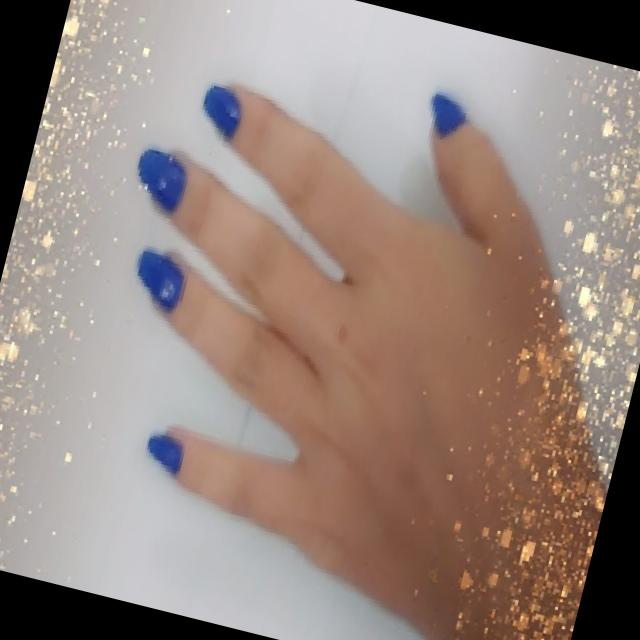Nail: (138, 147, 185, 212), (137, 249, 183, 311), (203, 85, 240, 139), (147, 433, 182, 474), (431, 93, 465, 135)
